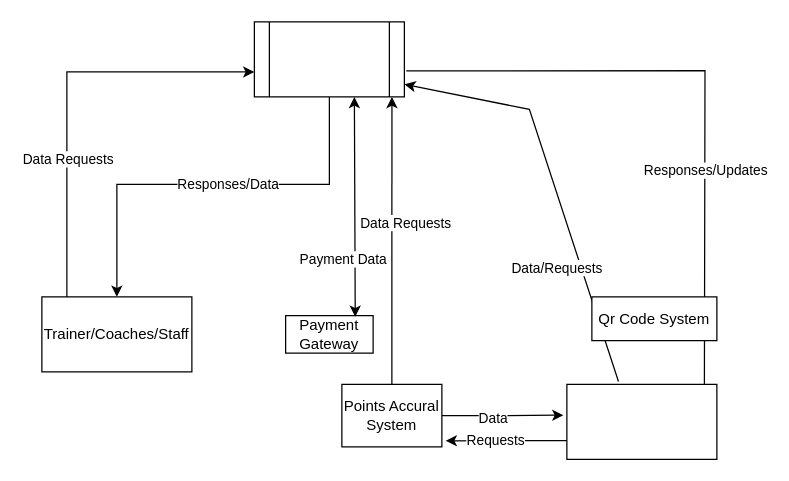
Some shapes in this 789 by 481 pixel diagram are drawn without their labels. The shapes that lost their labels are listed below. From the top down, each one's centre as x and y in pixels, then its label:
At [328,59]: "Iron Core Fitness System".
At [641,421]: "User/(Member)".
